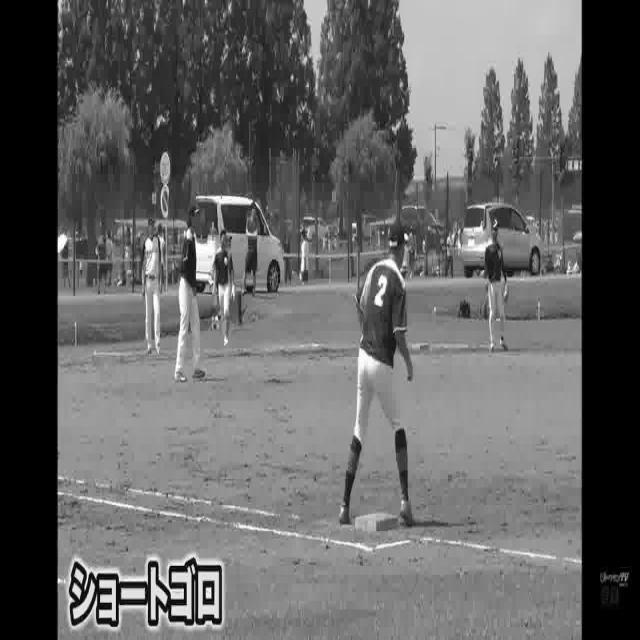base: (356, 509, 399, 535)
shoe: (188, 356, 210, 382), (170, 367, 191, 391), (402, 496, 419, 524), (337, 504, 353, 527)
